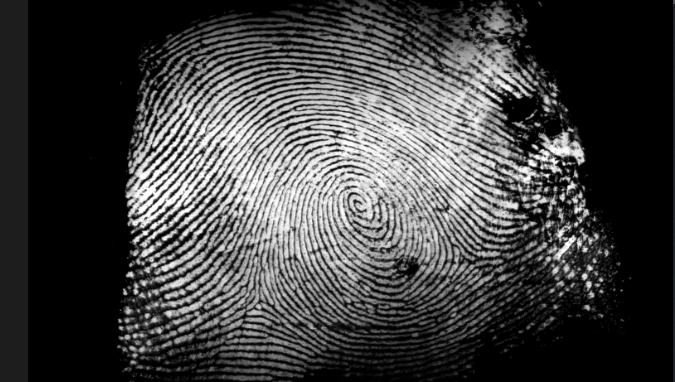nucelo: (339, 188, 379, 224)
verticilo: (451, 247, 487, 275), (237, 291, 279, 314)
